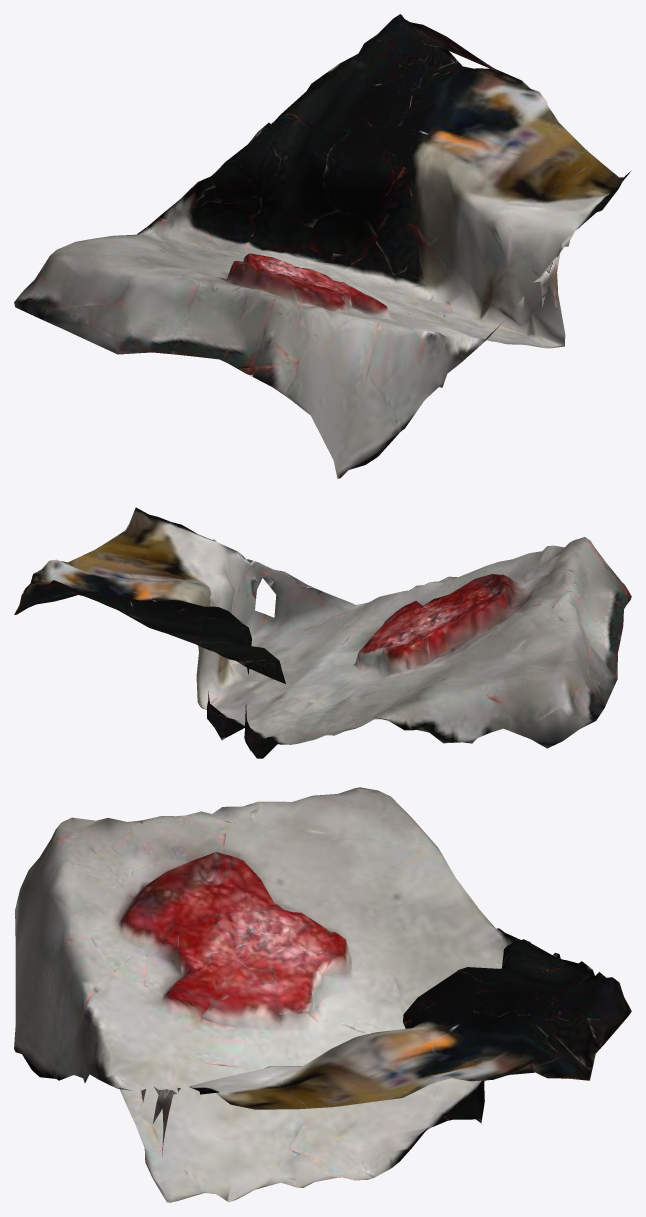
File: hall.glb
3 renders of one model, top to bottom at view 1: azimuth 30°, elevation 25°; view 2: azimuth 150°, elevation 25°; view 3: azimuth 270°, elevation 25°, orthographic. The views are drawn at different scales.
Bounding box in the file's own units: 0.808 × 0.2914 × 0.6417.
1 material, 1 textured.
